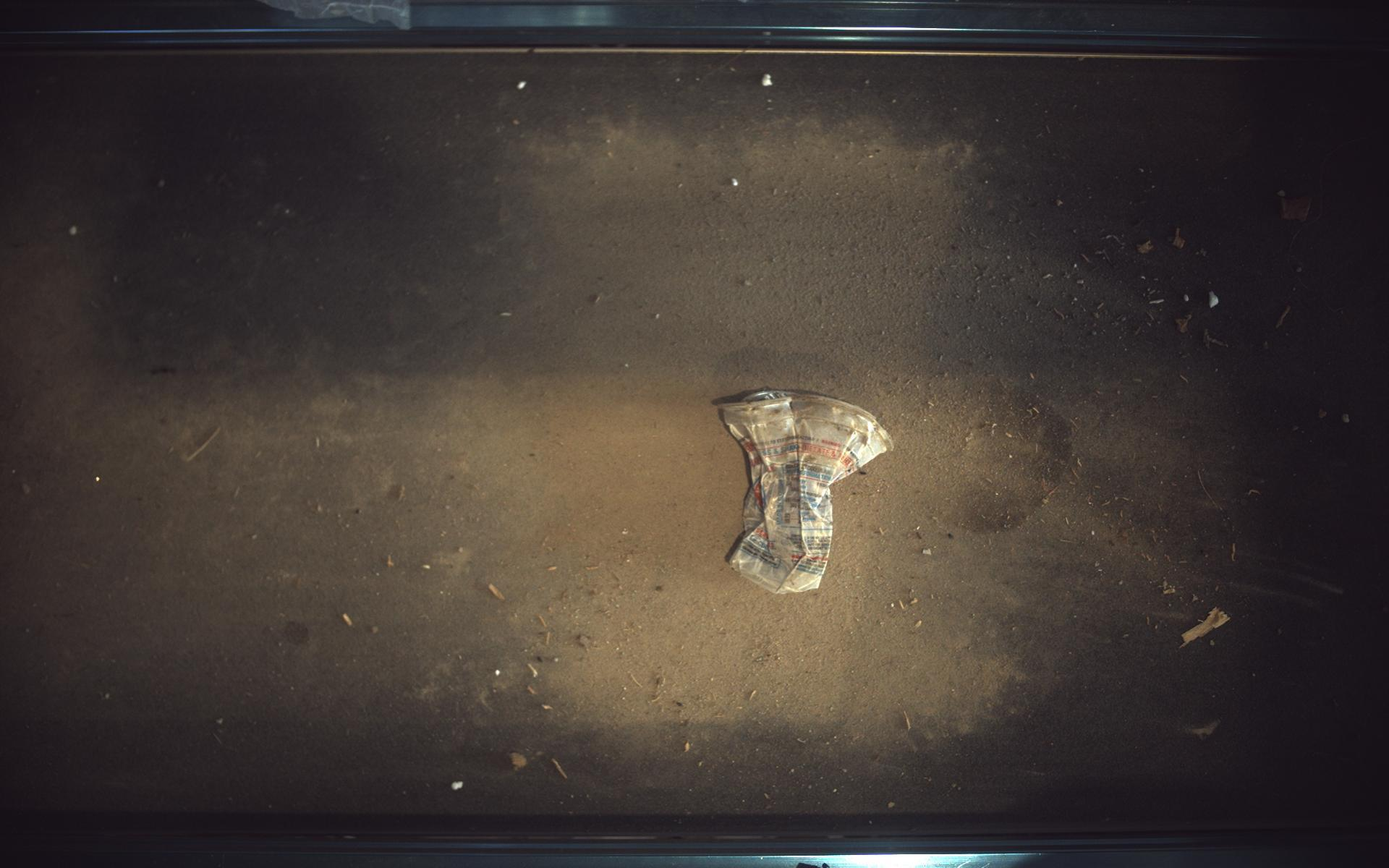general_w: (719, 390, 894, 594)
